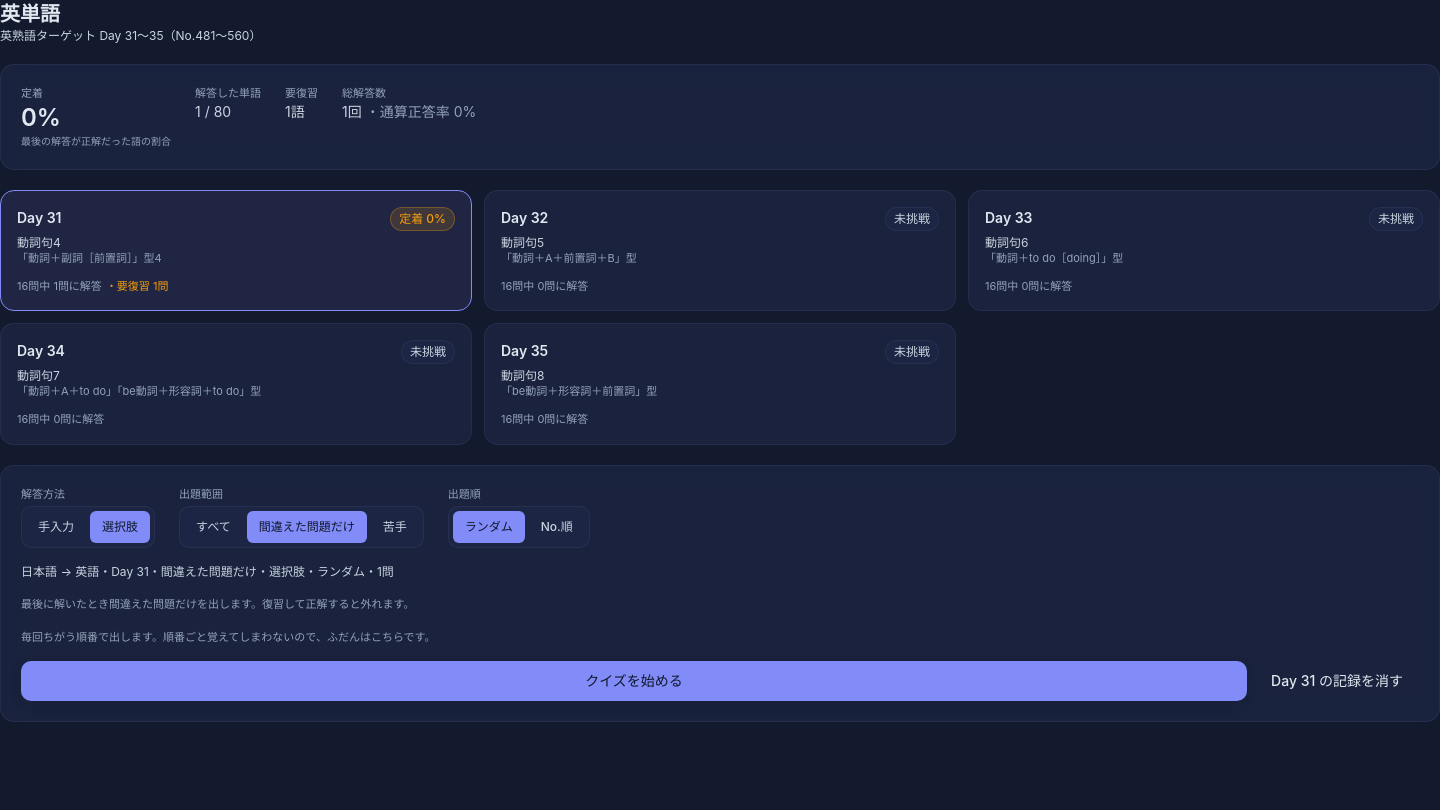
Test case: クイズを解く › picks a choice with the number keys
Step 1. Click the button "クイズを始める" → [634, 681], box [21,661,1247,701]
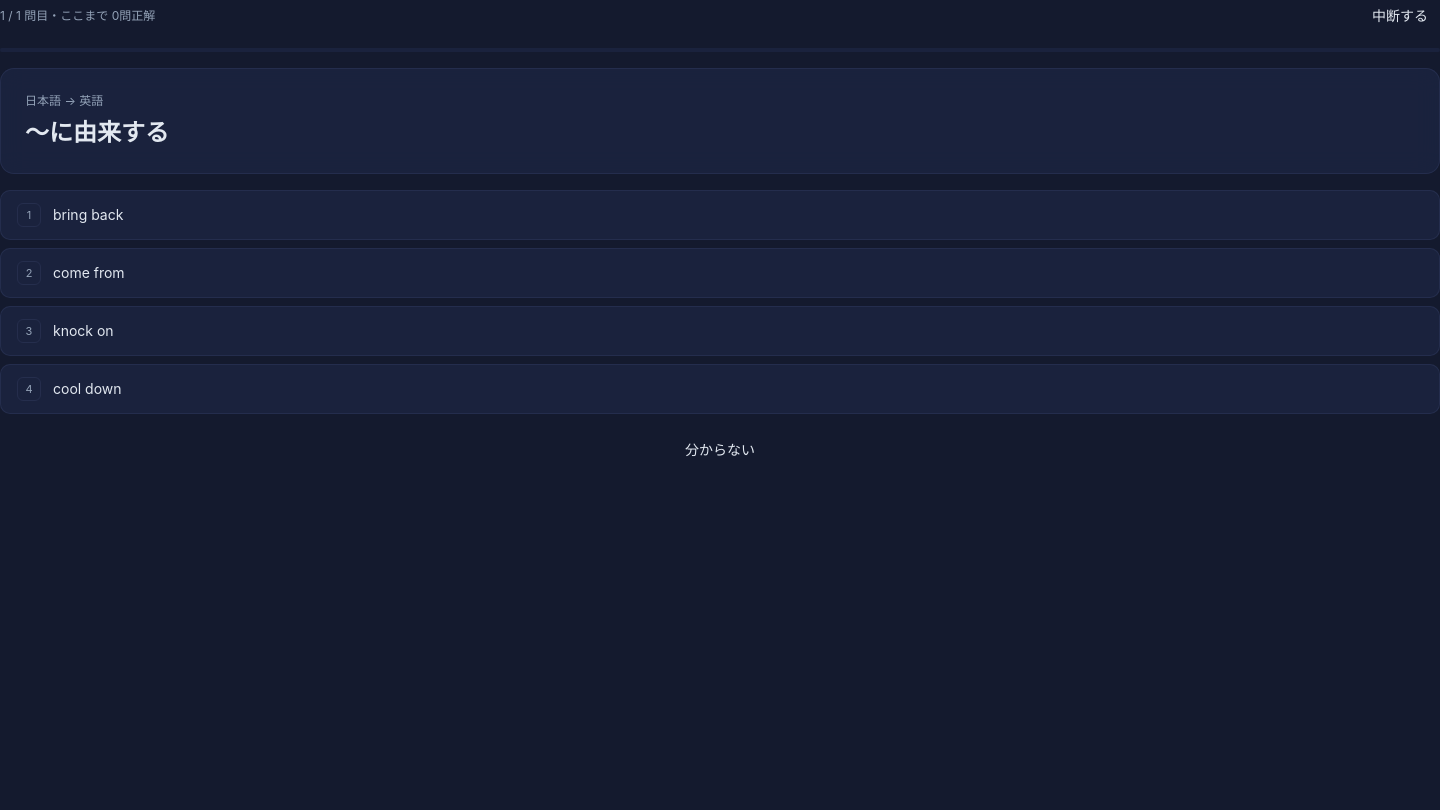
Step 2. Type keys "2"
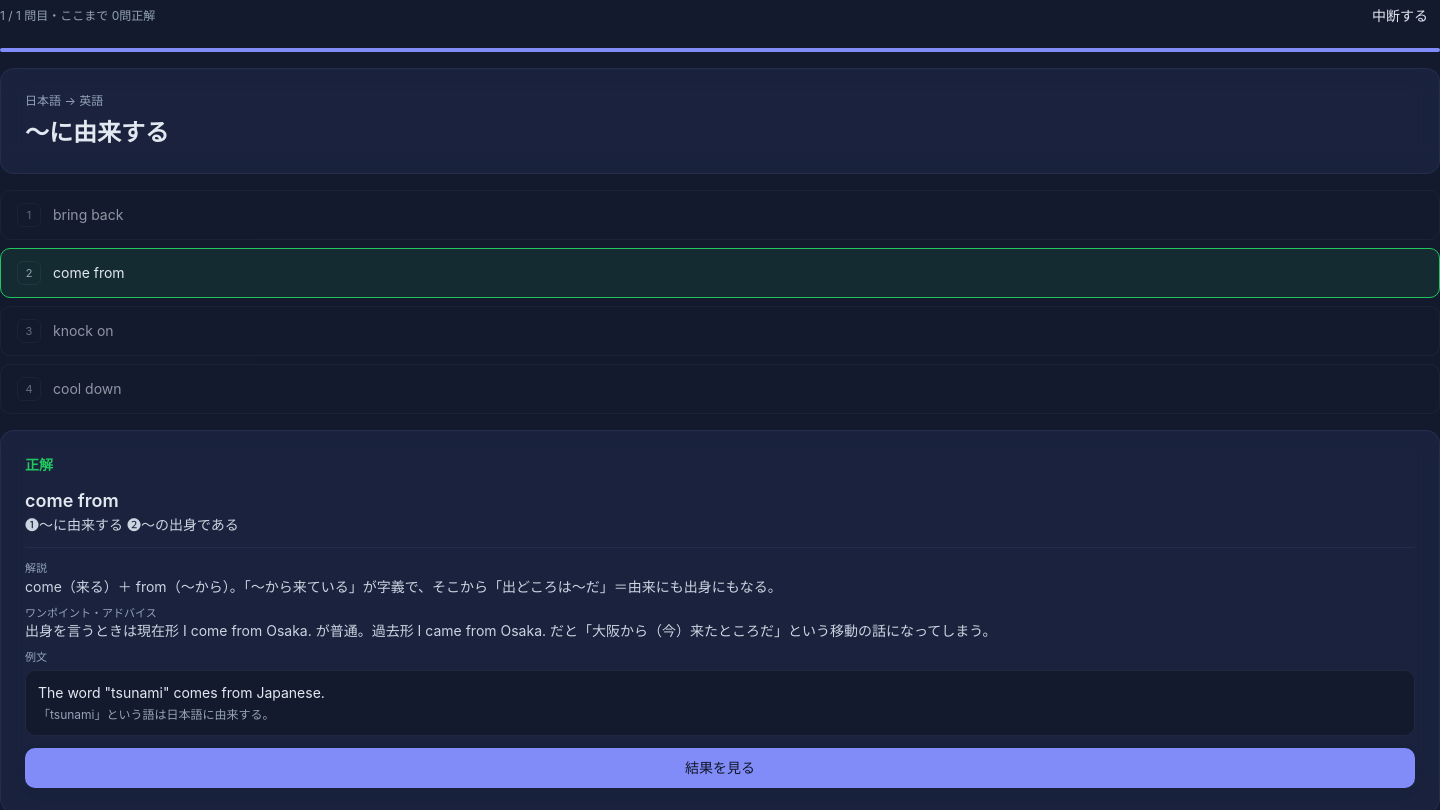
expect the text "正解" is shown: met, box [25,456,53,473]
